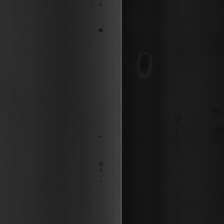oil_spot: (96, 160, 107, 184), (97, 25, 106, 40)
